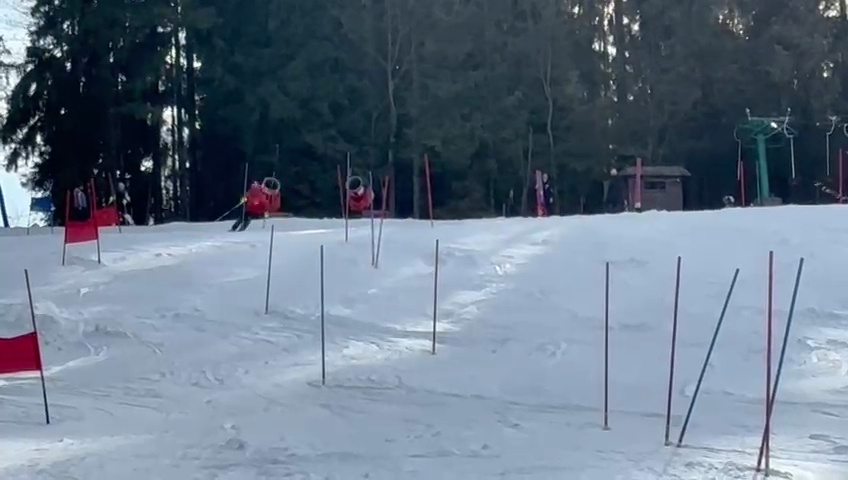gate: (674, 258, 745, 452), (754, 246, 806, 480), (0, 267, 49, 430), (20, 265, 56, 428), (662, 249, 683, 451), (0, 268, 25, 427), (596, 254, 615, 433), (314, 243, 334, 389), (427, 236, 445, 356), (374, 167, 392, 274), (334, 154, 354, 243), (364, 170, 381, 273), (262, 219, 279, 319), (86, 176, 105, 265), (60, 181, 75, 264), (235, 159, 251, 233), (108, 169, 126, 234), (421, 153, 437, 226), (0, 149, 14, 232), (533, 165, 548, 220), (834, 145, 847, 207), (0, 165, 9, 234)
